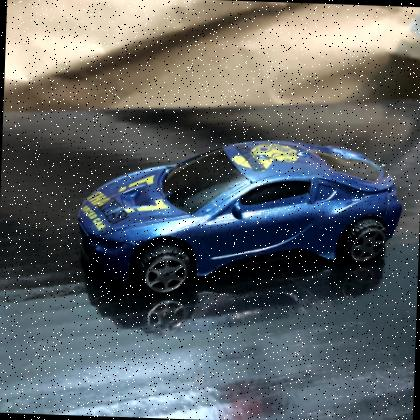Car: (77, 141, 403, 296)
